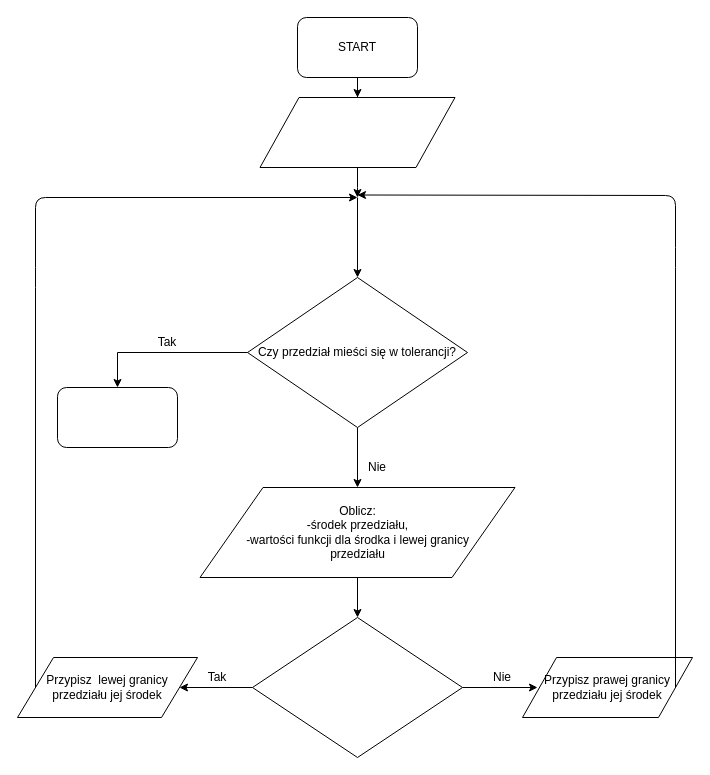
Image size: 710x775. Some labels were removed from this diagram. Each missing label, with the centre of its shape:
"Iloczyn wartości lewej granicy i środka przedziału jest dodatni" belongs at [357,687].
"Podaj: lewą i prawą granicę przedziału, tolerancję" belongs at [357,132].
"Zwróć średnią arytmetyczną granic przedziału" belongs at [117,417].
